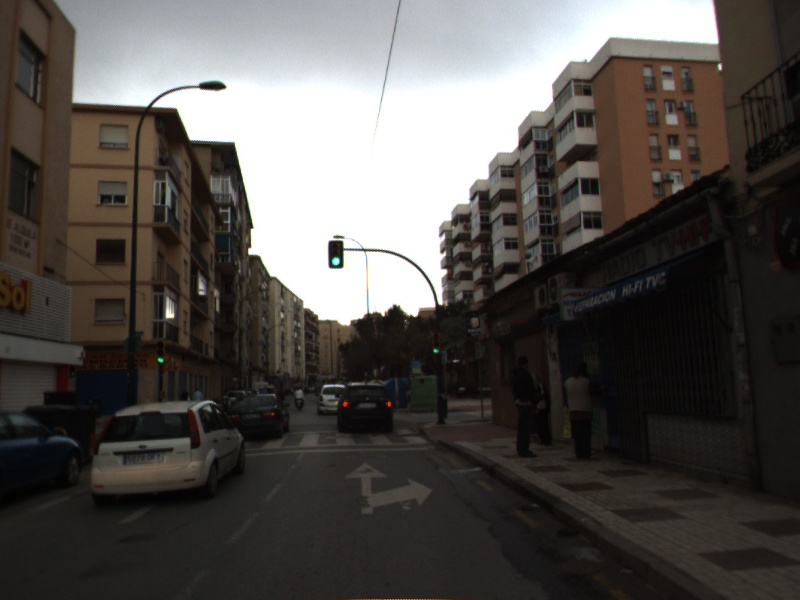STRAIGHT_RIGHT: (342, 460, 435, 517)
